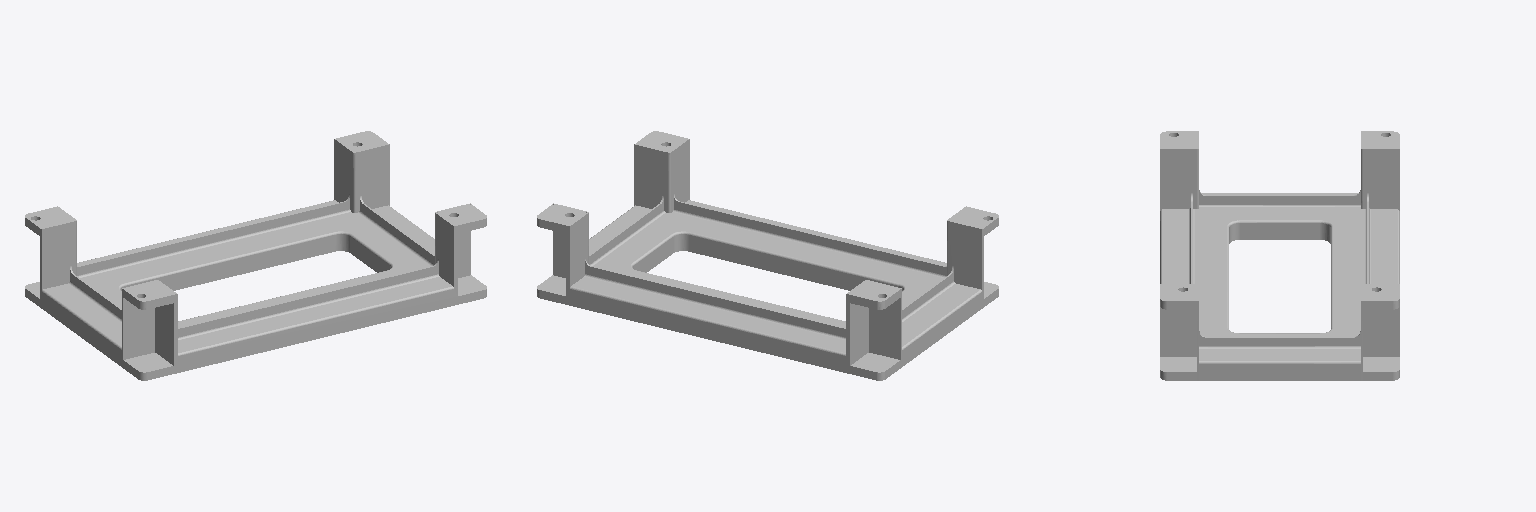
The model's file is Rama_cns_stage3.obj.
3 renders of one model, left to right at view 1: azimuth 30°, elevation 25°; view 2: azimuth 150°, elevation 25°; view 3: azimuth 270°, elevation 25°, orthographic.
Visible parts, largest first — view 1: imagetostl_mesh; view 2: imagetostl_mesh; view 3: imagetostl_mesh.
Part boxes in pixels (left/top/right/bottom): imagetostl_mesh: left=25, top=131, right=486, bottom=380; imagetostl_mesh: left=537, top=131, right=998, bottom=380; imagetostl_mesh: left=1160, top=131, right=1399, bottom=380.
Bounding box in the file's own units: 1746 × 380 × 1040.